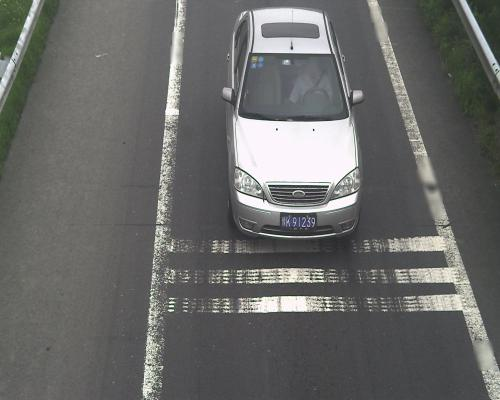Carplate: (276, 208, 323, 234)
